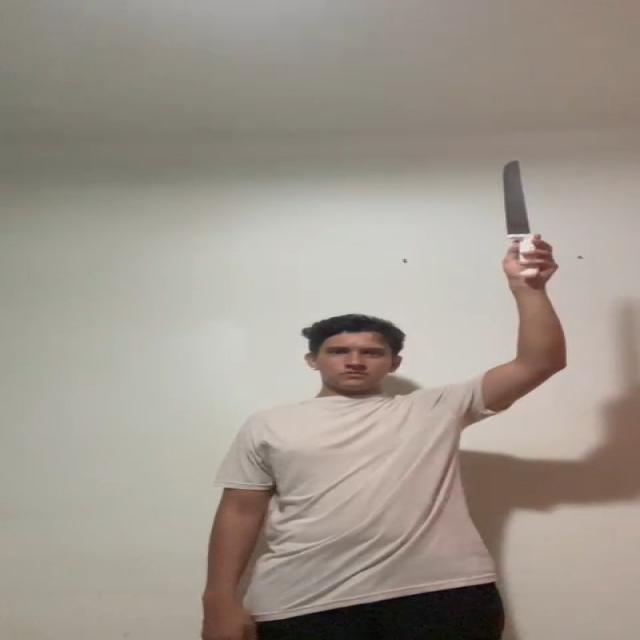knife: (500, 160, 531, 238)
